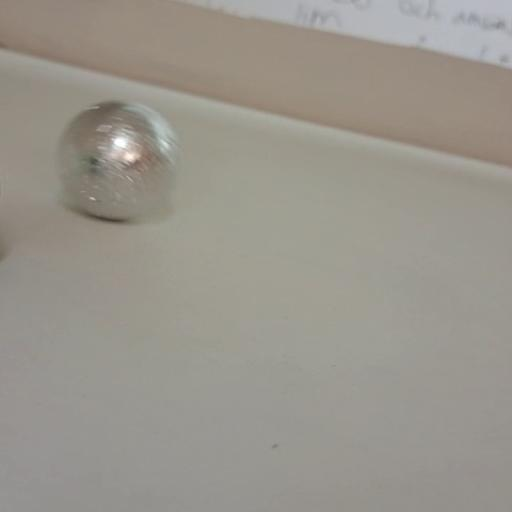alive: (56, 97, 186, 224)
